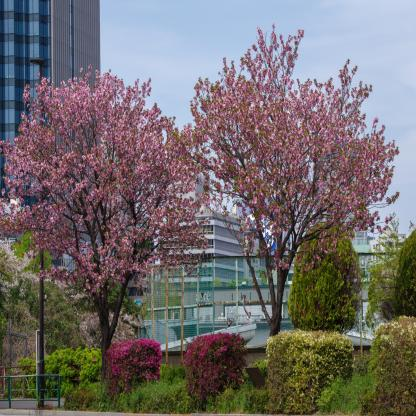YaeSakura: (188, 18, 400, 265), (0, 62, 189, 294), (0, 236, 48, 302), (77, 309, 141, 345)
